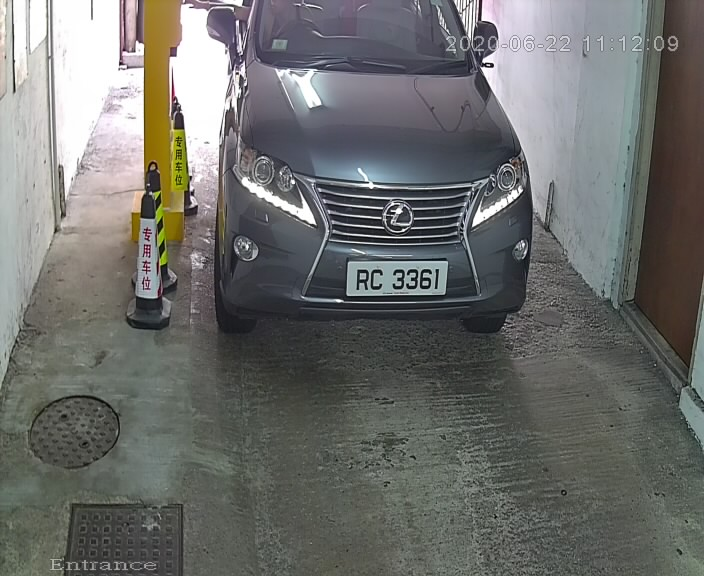privatecar: (180, 1, 565, 346)
